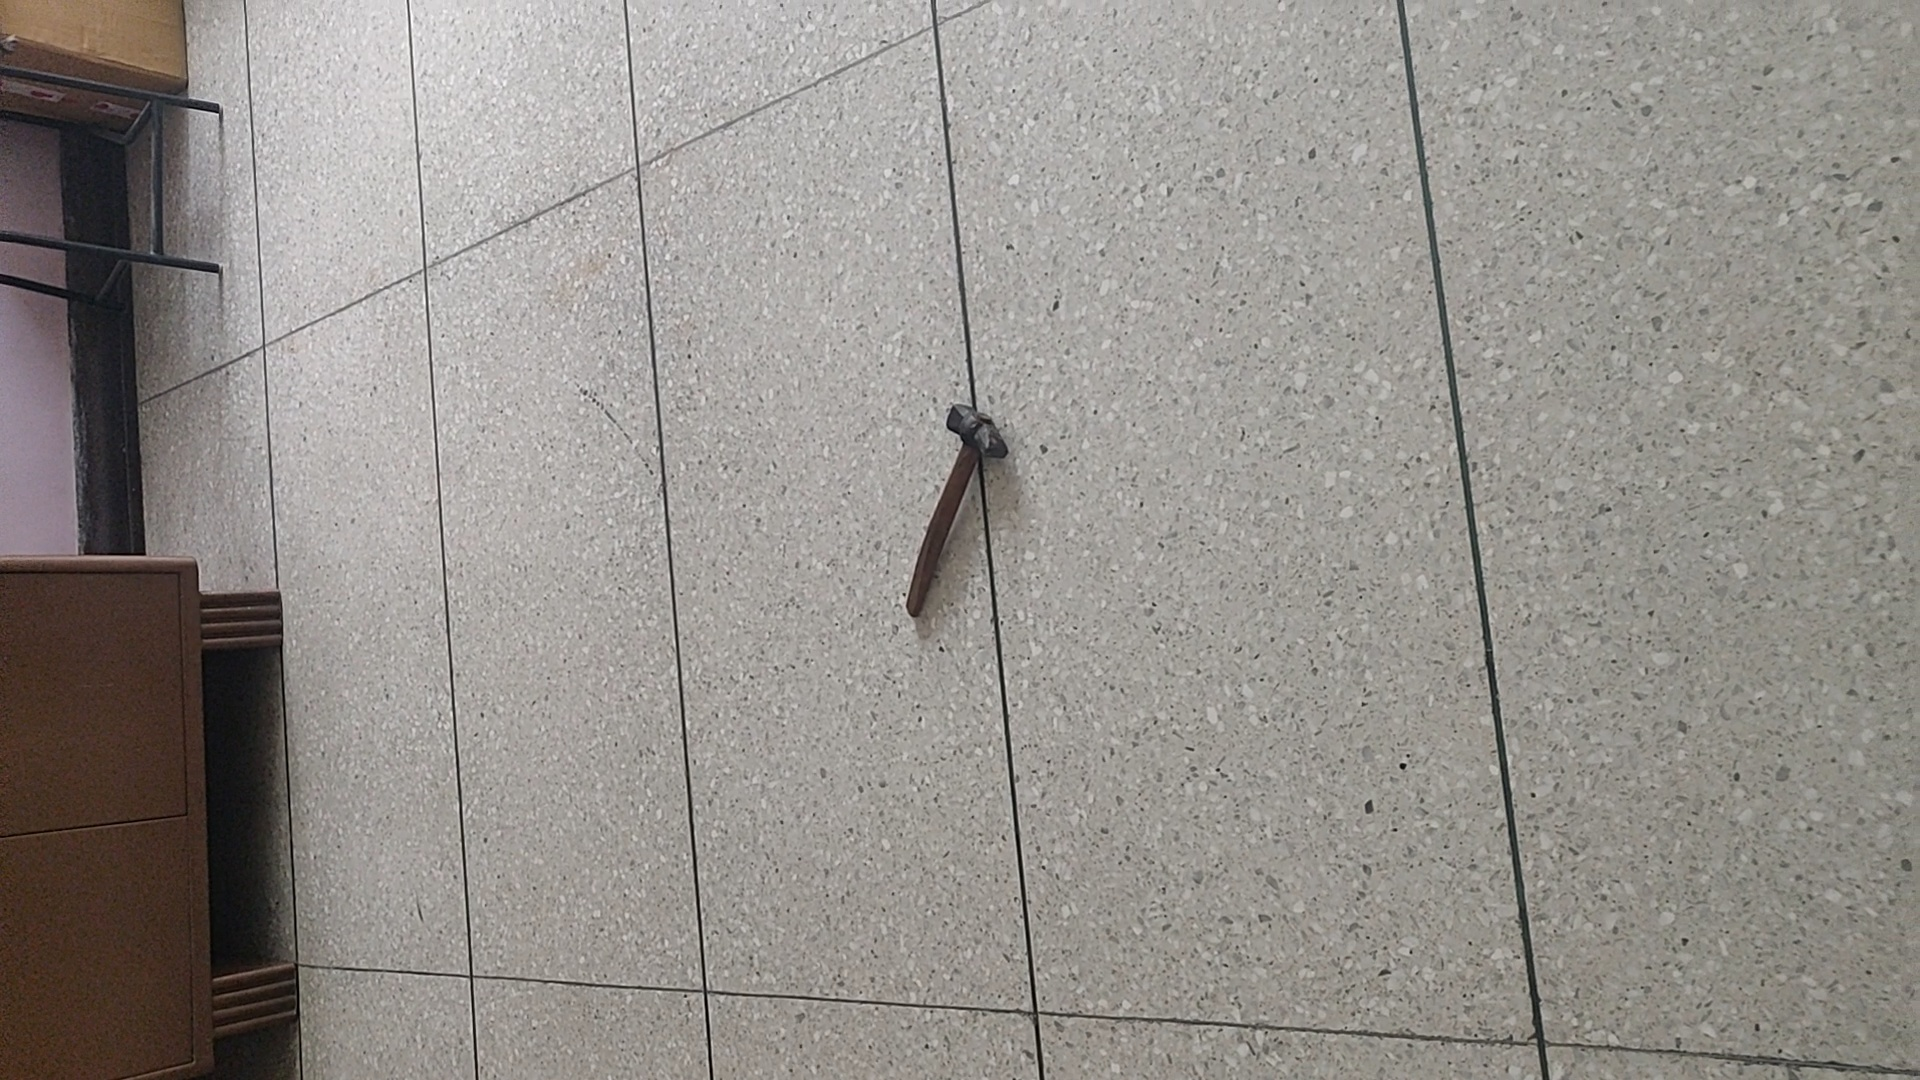hammer: (897, 401, 1009, 622)
